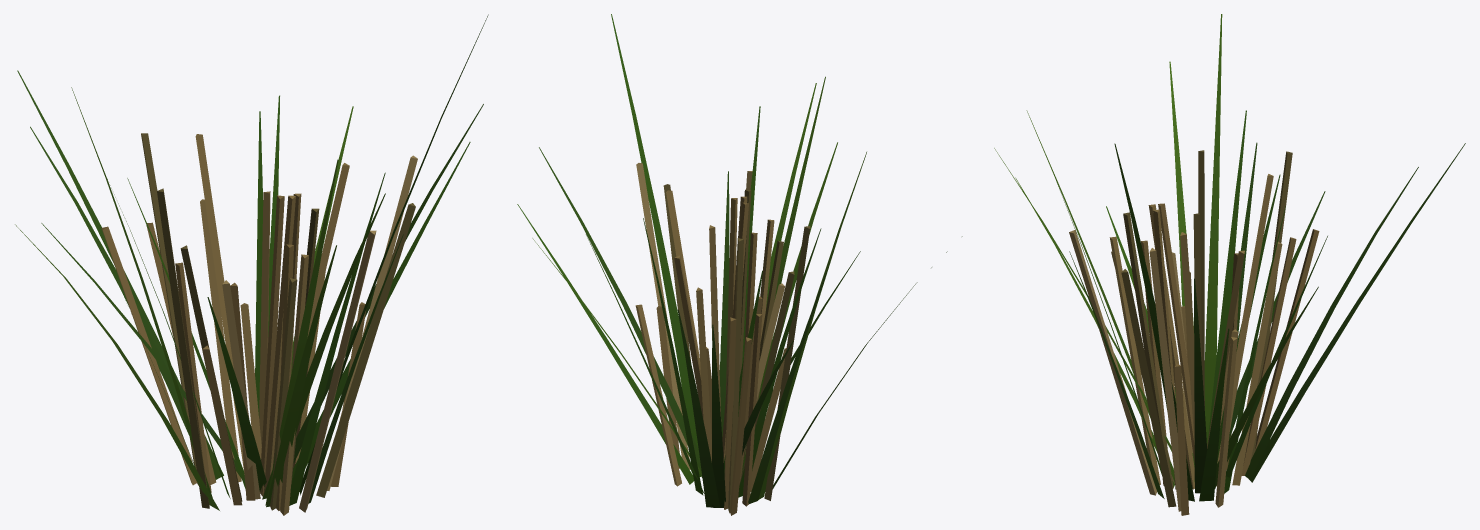
The model's file is rice_tuft.glb.
3 renders of one model, left to right at view 1: azimuth 30°, elevation 25°; view 2: azimuth 150°, elevation 25°; view 3: azimuth 270°, elevation 25°, orthographic. The views are drawn at different scales.
Parts seen in each view (by area): view 1: rice_tuft; view 2: rice_tuft; view 3: rice_tuft.
Part boxes in pixels (box(x1,y1,x2,y2)): rice_tuft: box(15, 14, 488, 515); rice_tuft: box(517, 14, 962, 515); rice_tuft: box(994, 14, 1465, 515).
Bounding box in the file's own units: 0.4389 × 0.4063 × 0.4115.
